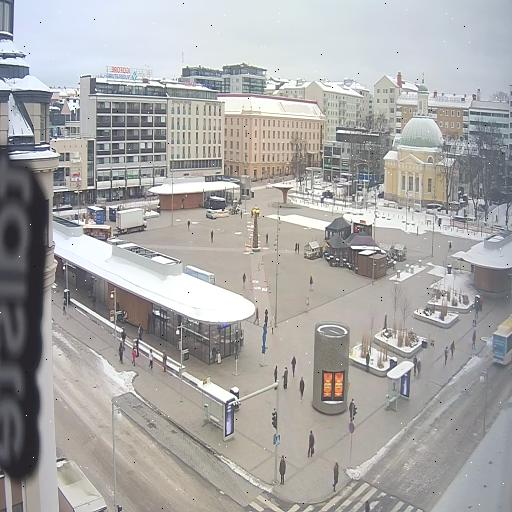Bus: (493, 315, 512, 365)
